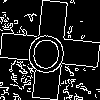O: (25, 25, 68, 74)
